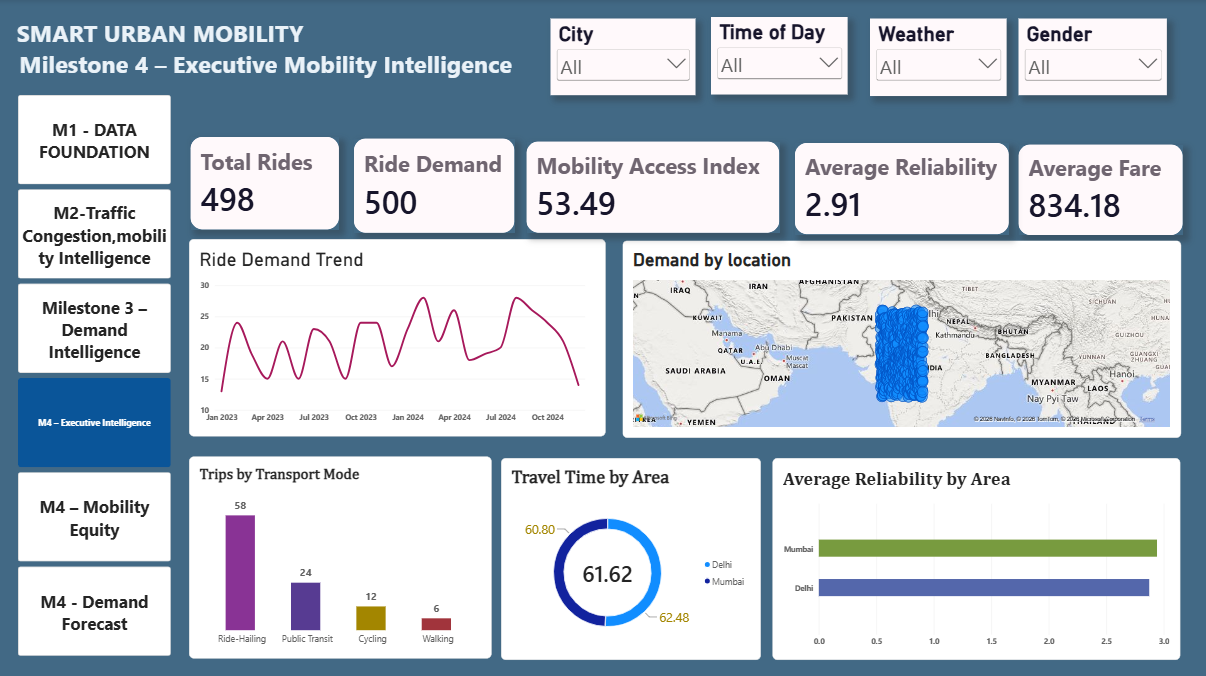

The dashboard page shown, as its layout file describes it:
{"tool":"powerbi","page":{"name":"M4 – Executive Intelligence","canvas":[1920,1080],"ordinal":3},"visuals":[{"type":"textbox","box":[0,29.4,1920.6,152.9],"z":0},{"type":"cardVisual","fields":{"Data":["ride_safety_dataset.Total Rides"]},"box":[302.9,220,236.1,147.2],"z":1000},{"type":"cardVisual","fields":{"Data":["ride_safety_dataset.Ride Demand"]},"box":[562.9,222.9,255.6,150],"z":2000},{"type":"cardVisual","fields":{"Data":["ride_safety_dataset.Average Fare"]},"box":[1619.4,230.6,261.1,144.4],"z":3000},{"type":"slicer","fields":{"Values":["DimLocation.City"]},"box":[875,30.6,230.6,122.2],"z":4000},{"type":"slicer","fields":{"Values":["DimWeather.Weather_Condition"]},"box":[1383.3,30.6,217.6,123.5],"z":5000},{"type":"slicer","fields":{"Values":["ride_safety_dataset.Passenger_Gender"]},"box":[1619.4,30.6,236.1,122.2],"z":6000},{"type":"slicer","fields":{"Values":["DimTime.Time_of_Day"]},"box":[1130.6,27.8,217.6,123.5],"z":7000},{"type":"lineChart","title":"Ride Demand Trend","fields":{"Category":["DimDate.Date.Variation.Date Hierarchy.Year","DimDate.Date.Variation.Date Hierarchy.Month"],"Y":["ride_safety_dataset.Ride Demand"]},"box":[300,382.9,662.9,314.3],"z":8000},{"type":"map","title":"Demand by location","fields":{"Size":["CountNonNull(ride_safety_dataset.Ride_ID)"],"X":["ride_safety_dataset.Longitude"],"Y":["ride_safety_dataset.Latitude"]},"box":[989.2,383.8,888.9,313.9],"z":9000},{"type":"cardVisual","fields":{"Data":["ride_safety_dataset.Mobility Access Index"]},"box":[837.1,225.7,402.9,145.7],"z":10000},{"type":"cardVisual","fields":{"Data":["ride_safety_dataset.Average Reliability"]},"box":[1265.7,228.6,340,145.7],"z":11000},{"type":"columnChart","title":"Trips by Transport Mode","fields":{"Category":["Modal_Substitution_Scenario.Mobility Mode"],"Y":["Sum(Modal_Substitution_Scenario.Share %)"]},"box":[300,728.6,481.1,321.6],"z":12000},{"type":"donutChart","title":"Travel Time by Area","fields":{"Category":["ride_safety_dataset.City"],"Y":["Avg(ride_safety_dataset.Ride_Duration_Minutes)"]},"box":[797.3,729.7,413.5,321.6],"z":13000},{"type":"clusteredBarChart","title":"Average Reliability by Area","fields":{"Category":["DimLocation.City"],"Y":["ride_safety_dataset.Average Reliability"]},"box":[1229.7,729.7,648.6,321.6],"z":14000},{"type":"pageNavigator","box":[28.6,152.7,243.4,897.1],"z":15000}]}

Visuals, with their boxes in screenshot pixels (x1, y1, x2, y2), scaled from the page's 1920x1080 canvas onto the 1206x676 screenshot:
textbox: [left=0, top=18, right=1205, bottom=114]
cardVisual - ride_safety_dataset.Total Rides: [left=190, top=138, right=339, bottom=230]
cardVisual - ride_safety_dataset.Ride Demand: [left=354, top=140, right=514, bottom=233]
cardVisual - ride_safety_dataset.Average Fare: [left=1017, top=144, right=1181, bottom=235]
slicer - DimLocation.City: [left=550, top=19, right=694, bottom=96]
slicer - DimWeather.Weather_Condition: [left=869, top=19, right=1006, bottom=96]
slicer - ride_safety_dataset.Passenger_Gender: [left=1017, top=19, right=1165, bottom=96]
slicer - DimTime.Time_of_Day: [left=710, top=17, right=847, bottom=95]
"Ride Demand Trend" lineChart: [left=188, top=240, right=605, bottom=436]
"Demand by location" map: [left=621, top=240, right=1180, bottom=437]
cardVisual - ride_safety_dataset.Mobility Access Index: [left=526, top=141, right=779, bottom=232]
cardVisual - ride_safety_dataset.Average Reliability: [left=795, top=143, right=1009, bottom=234]
"Trips by Transport Mode" columnChart: [left=188, top=456, right=491, bottom=657]
"Travel Time by Area" donutChart: [left=501, top=457, right=761, bottom=658]
"Average Reliability by Area" clusteredBarChart: [left=772, top=457, right=1180, bottom=658]
pageNavigator: [left=18, top=96, right=171, bottom=657]
